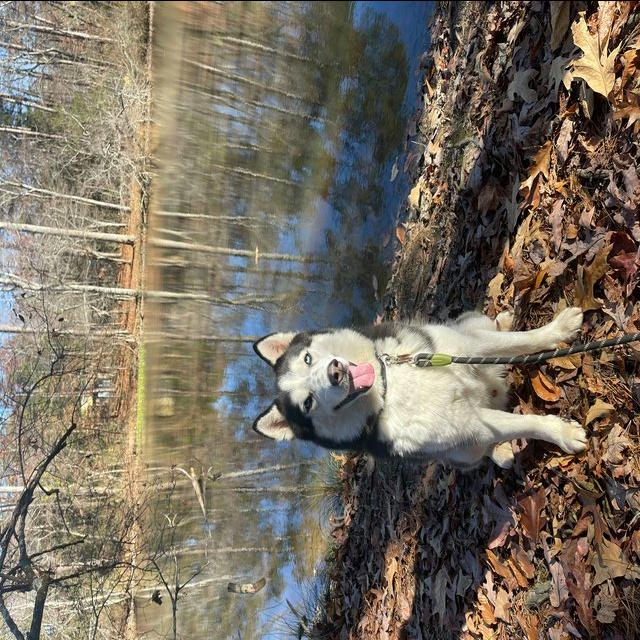husky: (250, 304, 589, 471)
